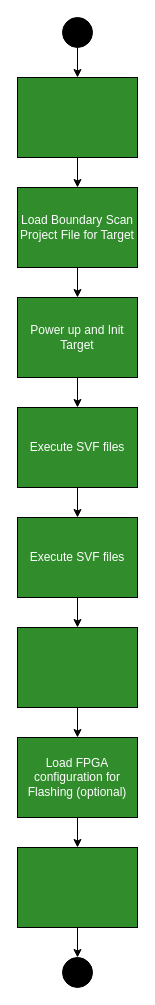
Image size: 155x1005. Some labels were removed from this diagram. Each missing label, with the centre of its shape:
Load FPGA for Boundary Scan: the point at 77,117
Power down Target: the point at 77,667
Run Normal Flash Process: the point at 77,887
